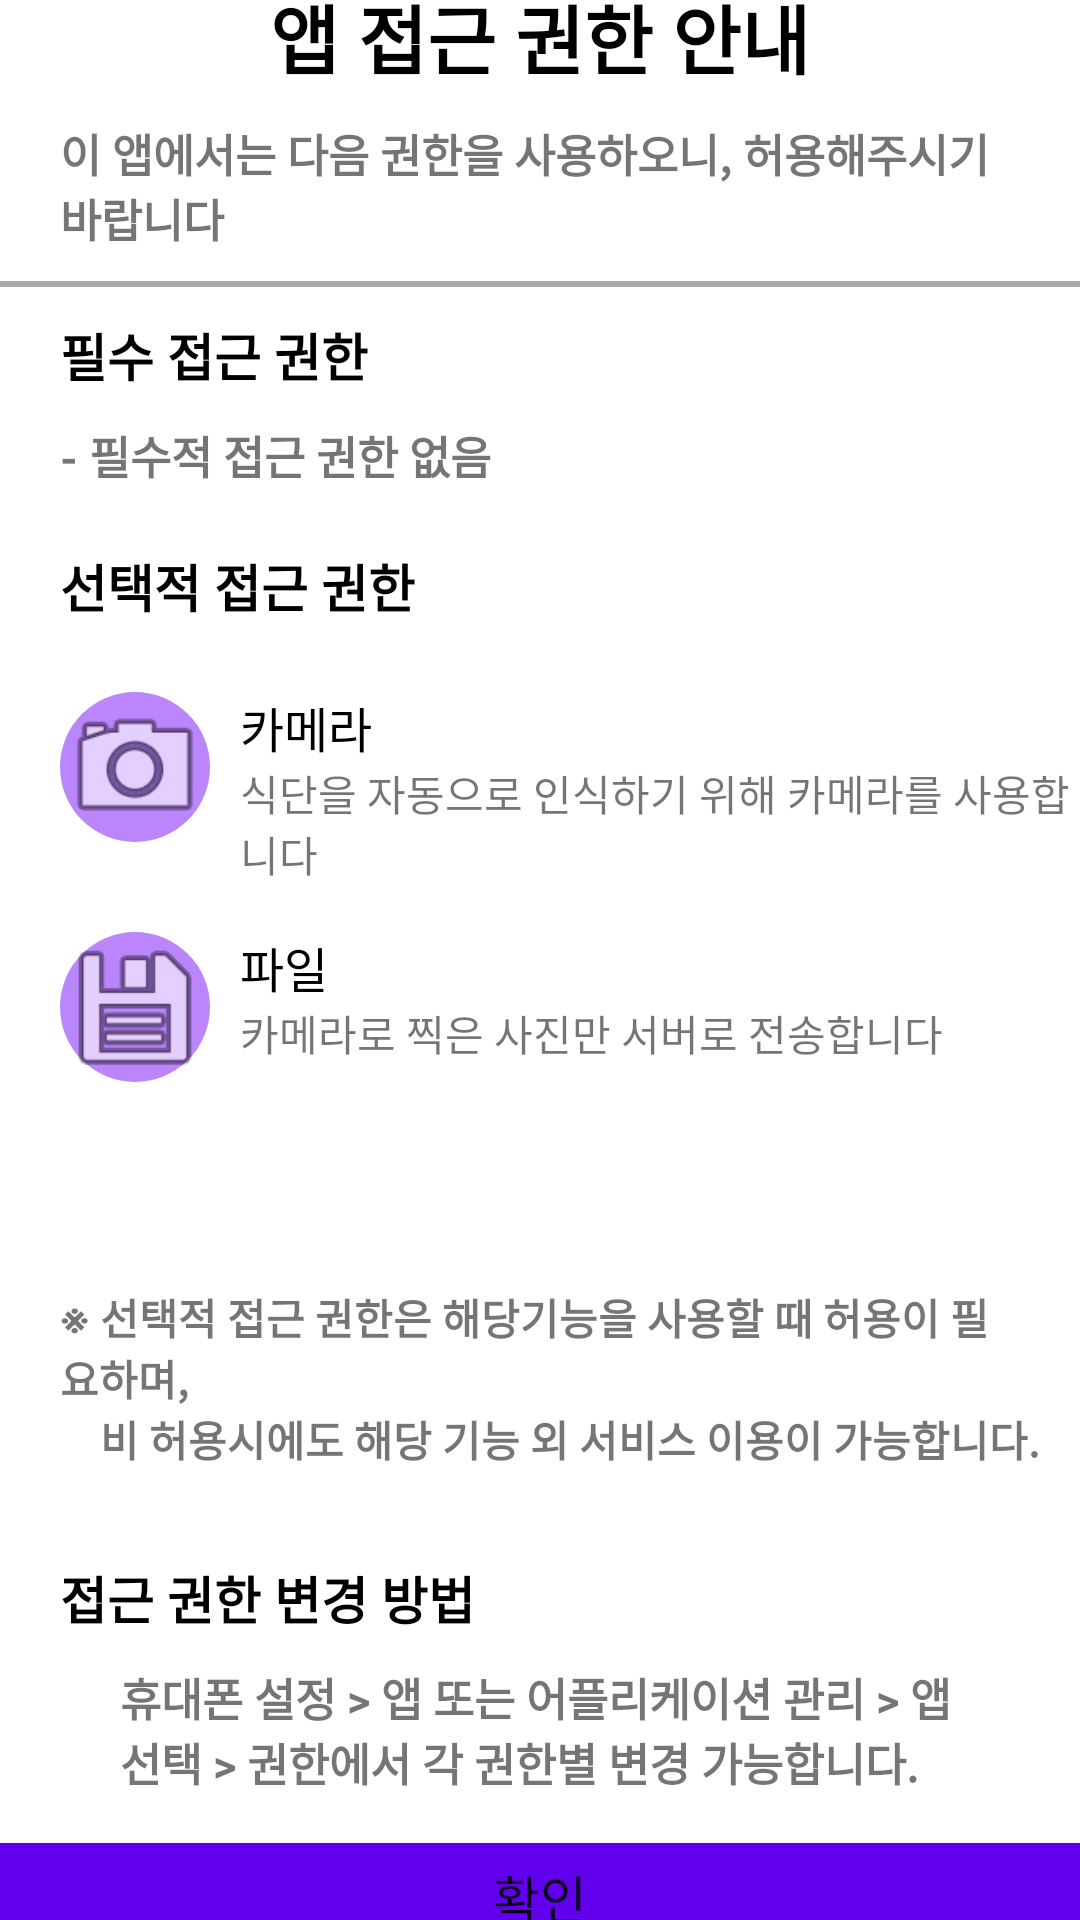

Icons on this 1080px×1920px Android screen, each with the point to tap as (x=x, y=y):
camera: (x=135, y=767)
save: (x=135, y=1007)
